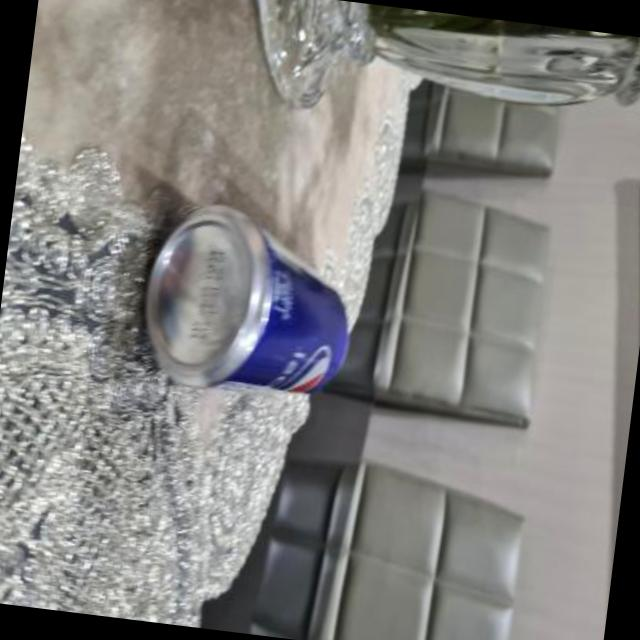metal: (146, 209, 349, 395)
